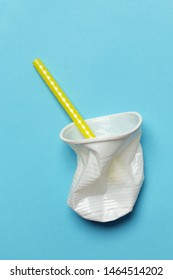plastic_glass: (53, 110, 153, 223)
